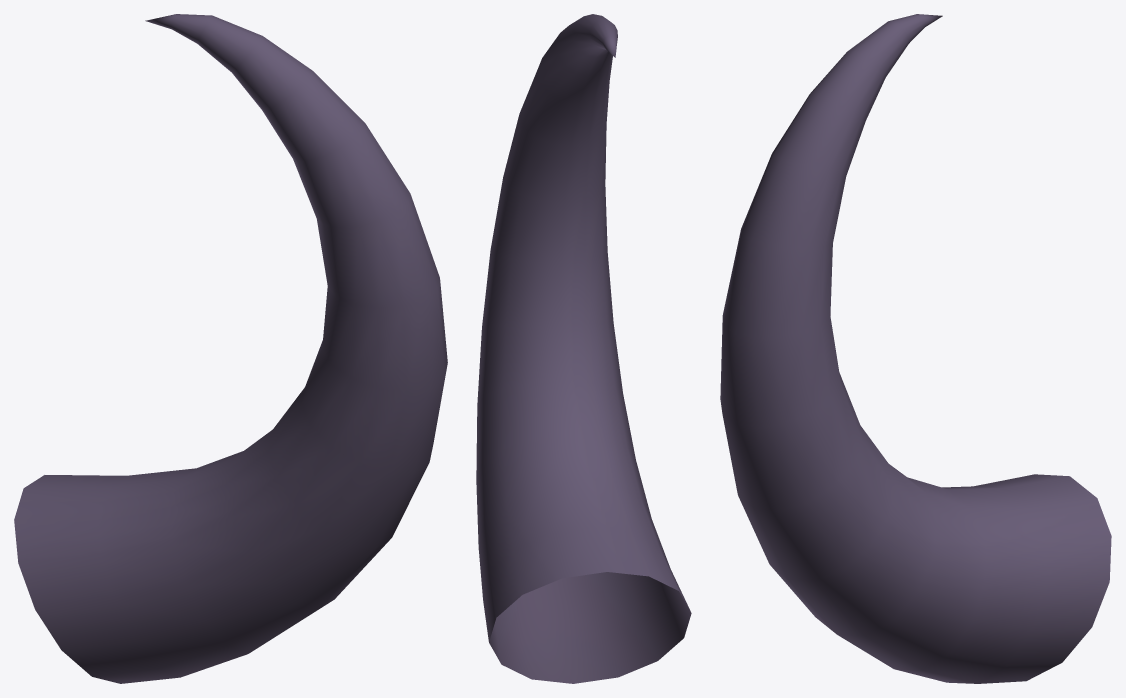
Rendered from Sung Hoa.fbx.
3 views of the same model, side by side, from view 1: azimuth 30°, elevation 25°; view 2: azimuth 150°, elevation 25°; view 3: azimuth 270°, elevation 25° (orthographic). The views are drawn at different scales.
Parts seen in each view (by area): view 1: HornH; view 2: HornH; view 3: HornH.
Boxes of the visible parts, left/top/right/bottom form: HornH: left=14, top=14, right=447, bottom=683; HornH: left=476, top=14, right=691, bottom=683; HornH: left=720, top=14, right=1111, bottom=683.
Size of the model in its own units: 48.24 by 102 by 54.3.
1 material, 1 textured.
